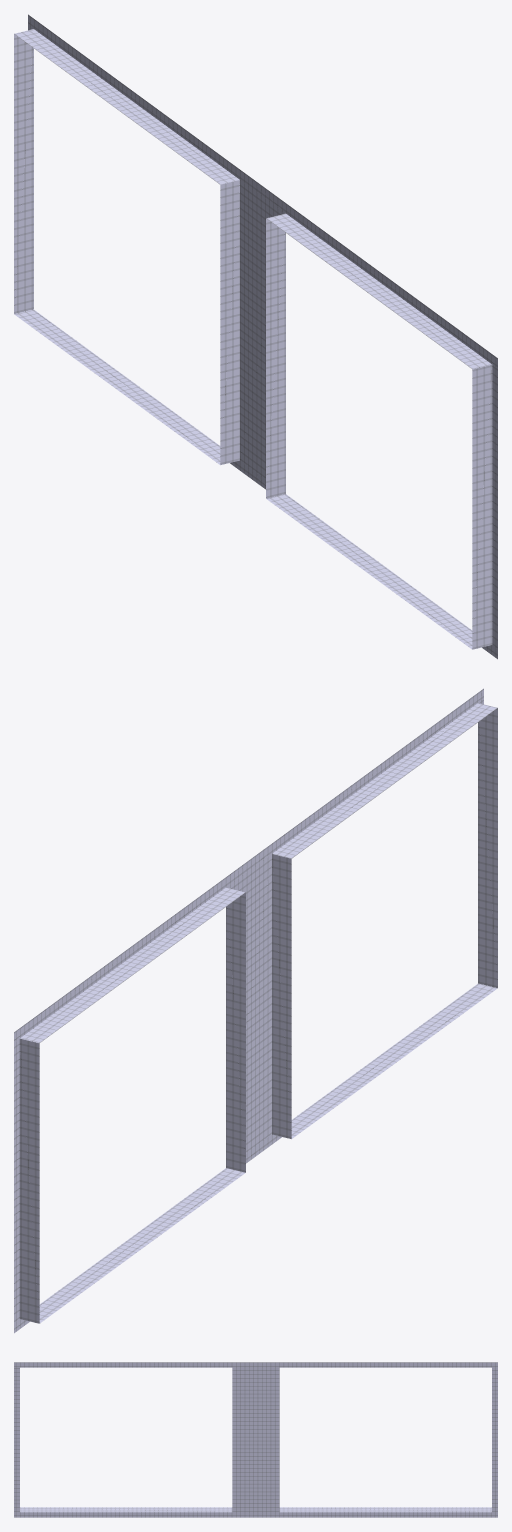
The model's file is gaiheki.obj.
The picture shows the model from 3 angles, top to bottom: view 1: azimuth 30°, elevation 25°; view 2: azimuth 150°, elevation 25°; view 3: azimuth 270°, elevation 25°; orthographic projection. The views are drawn at different scales.
Visible parts, largest first — view 1: gaiheki; view 2: gaiheki; view 3: gaiheki.
Boxes of the visible parts, bbox=[...] form: gaiheki: bbox=[14, 14, 497, 659]; gaiheki: bbox=[14, 688, 497, 1333]; gaiheki: bbox=[14, 1362, 497, 1517].
Bounding box in the file's own units: 0.2 × 2.9 × 8.2.
Materials: 1 (1 with a texture image).
